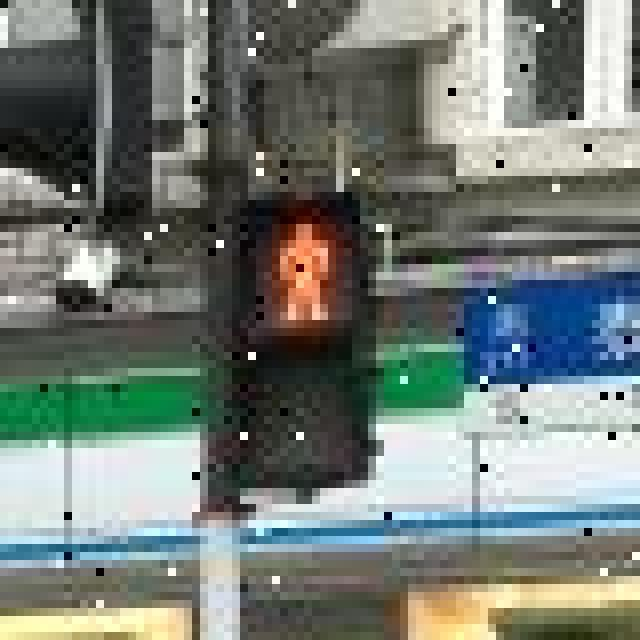redlight: (228, 207, 378, 494)
